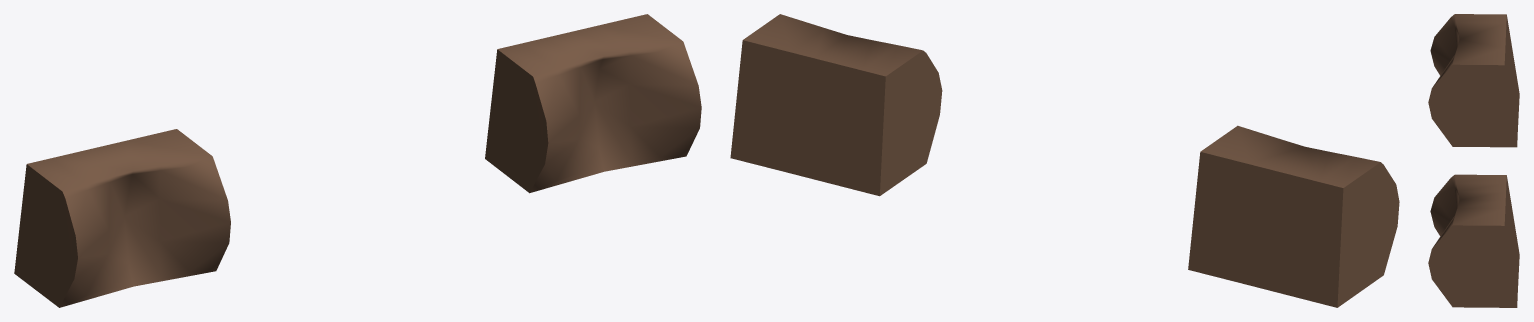
Rendered from m_airlift_3b005660.glb.
3 renders of one model, left to right at view 1: azimuth 30°, elevation 25°; view 2: azimuth 150°, elevation 25°; view 3: azimuth 270°, elevation 25°, orthographic. The views are drawn at different scales.
Parts seen in each view (by area): view 1: mesh; view 2: mesh; view 3: mesh.
Part boxes in pixels (left/top/right/bottom): mesh: left=14, top=14, right=701, bottom=307; mesh: left=730, top=14, right=1399, bottom=307; mesh: left=1428, top=14, right=1519, bottom=307.
Size of the model in its own units: 1413 by 249 by 255.
